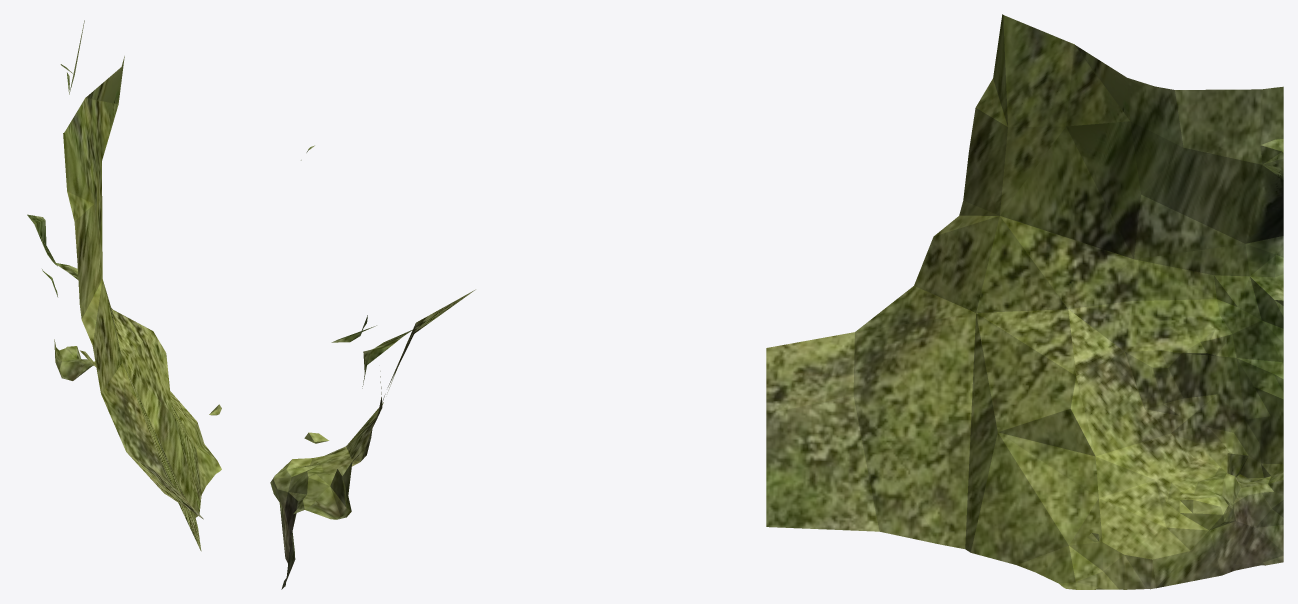
The picture shows the model from 3 angles, left to right: view 1: azimuth 30°, elevation 25°; view 2: azimuth 150°, elevation 25°; view 3: azimuth 270°, elevation 25°; orthographic projection. The views are drawn at different scales.
Bounding box in the file's own units: 3.08 × 5.9 × 5.9.
2 materials, 2 textured.
